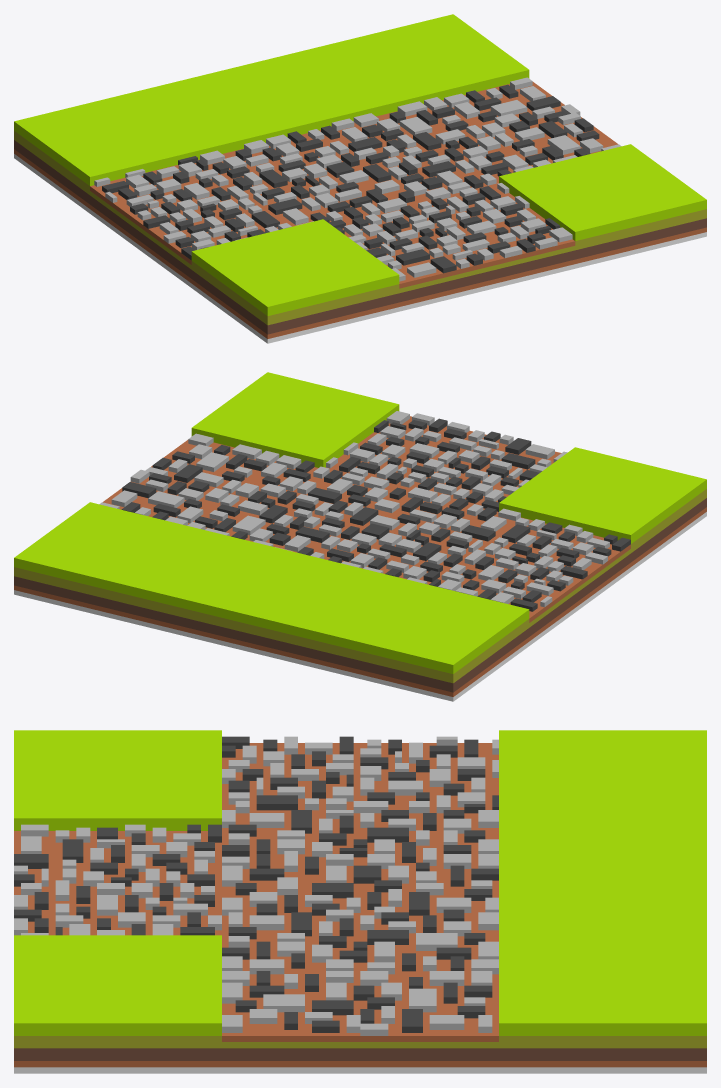
File: Ways-4-Way T.obj
3 views of the same model, one above another, from view 1: azimuth 30°, elevation 25°; view 2: azimuth 150°, elevation 25°; view 3: azimuth 270°, elevation 25° (orthographic). The views are drawn at different scales.
Visible parts, largest first — view 1: Way T; view 2: Way T; view 3: Way T.
Part boxes in pixels (x1,y1,x2,y2): Way T: [14, 14, 706, 343]; Way T: [14, 372, 706, 701]; Way T: [14, 730, 706, 1073].
Bounding box in the file's own units: 10 × 0.8 × 10.
1 material, 1 textured.
